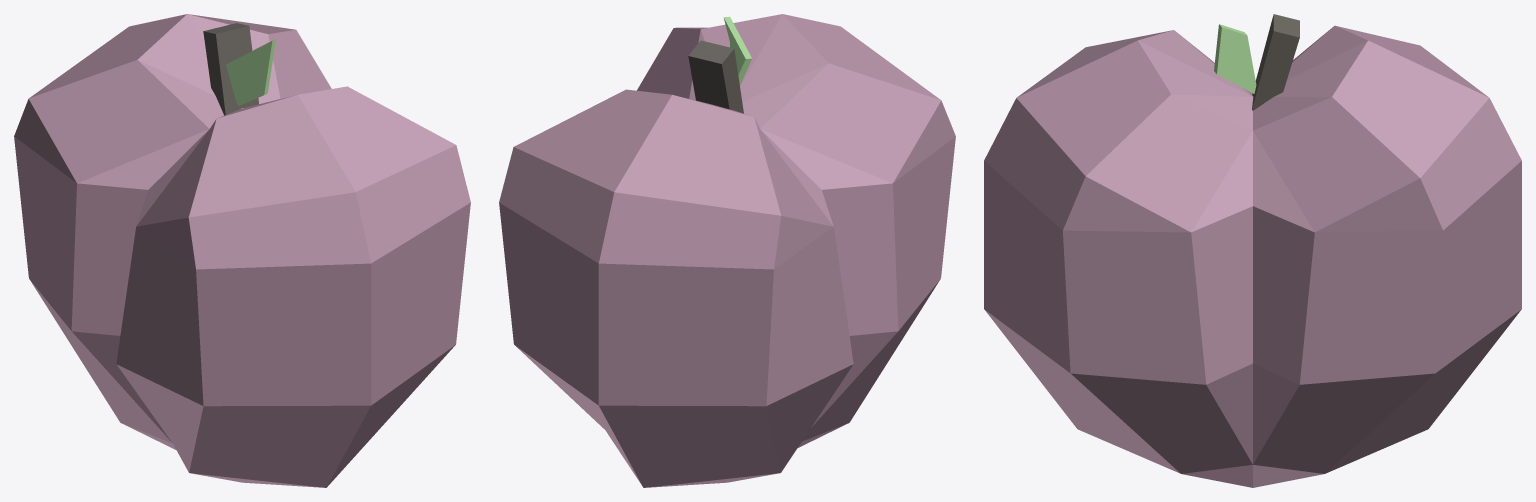
The model's file is Peach.fbx.
3 views of the same model, side by side, from view 1: azimuth 30°, elevation 25°; view 2: azimuth 150°, elevation 25°; view 3: azimuth 270°, elevation 25° (orthographic). The views are drawn at different scales.
Visible parts, largest first — view 1: Peach; view 2: Peach; view 3: Peach.
Boxes of the visible parts, x1=… form: Peach: x1=14, y1=14, x2=470, y2=487; Peach: x1=499, y1=14, x2=955, y2=487; Peach: x1=984, y1=14, x2=1521, y2=487.
Bounding box in the file's own units: 2.15 × 3.12 × 3.23.
